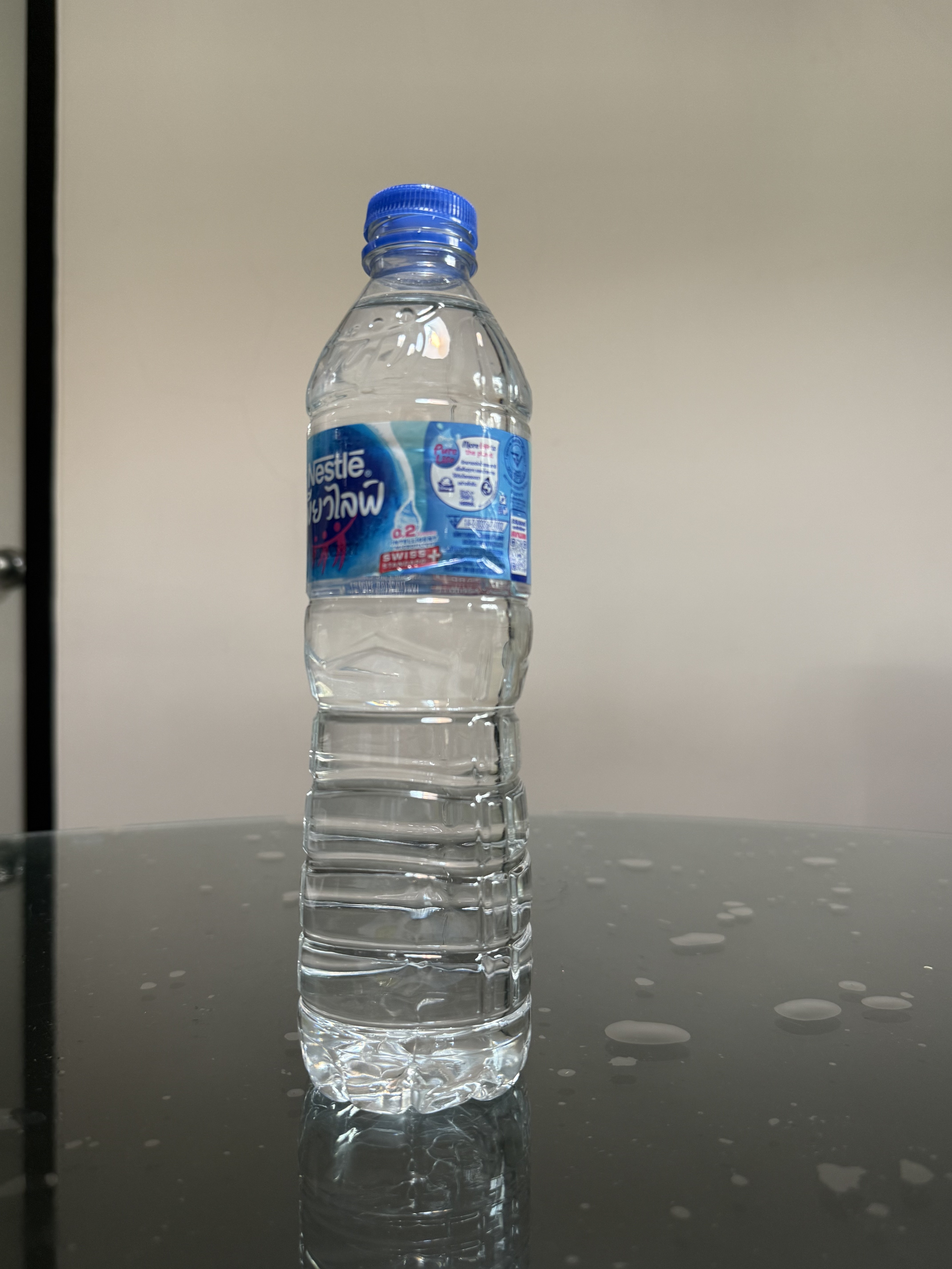half_cap: (359, 180, 480, 277)
